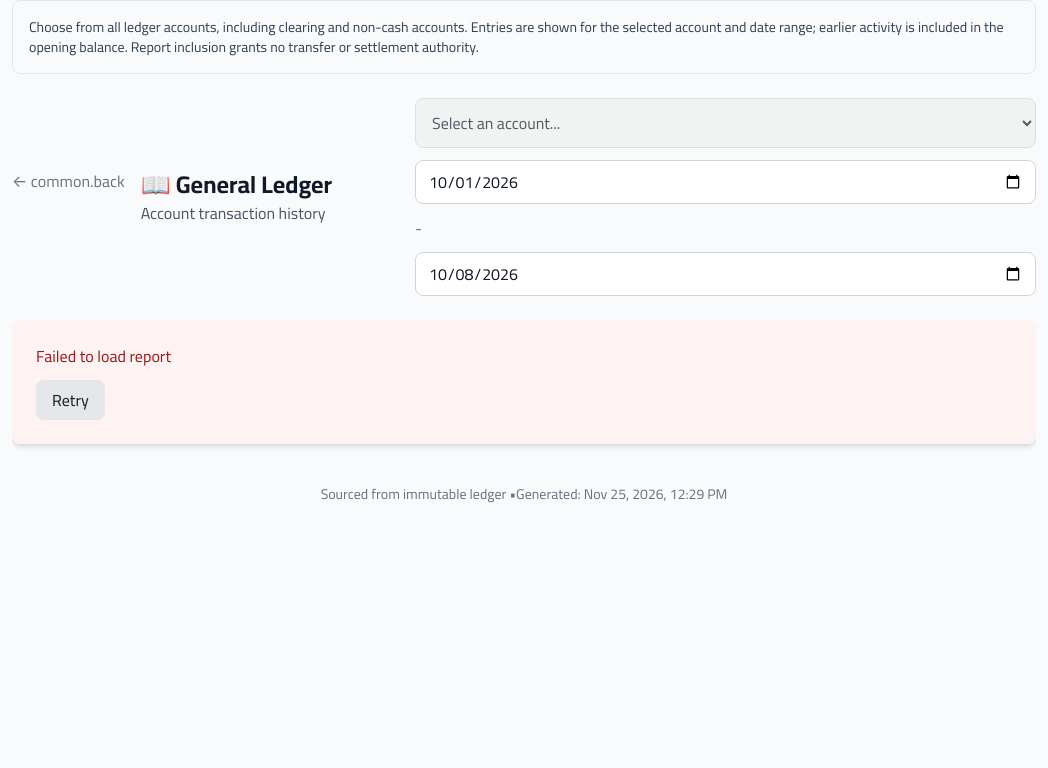
Scenario: General Ledger account discovery and report truth › shows a retryable catalog failure instead of an apparently empty chart
Check: the message shows "Failed to load report", box [36, 341, 171, 371]
Check: the dropdown is disabled, box [415, 98, 1036, 148]
Step 1. Click the button "Retry" → (70, 400), box [36, 380, 105, 420]
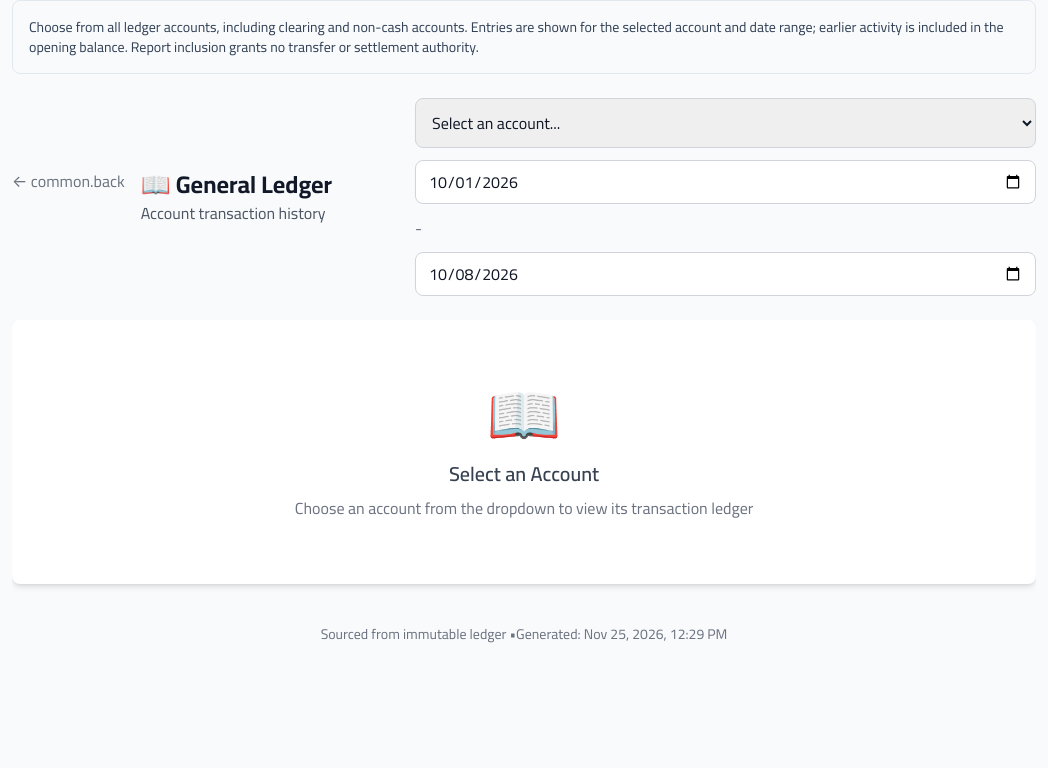
Check: the message "Failed to load report Retry" is gone
